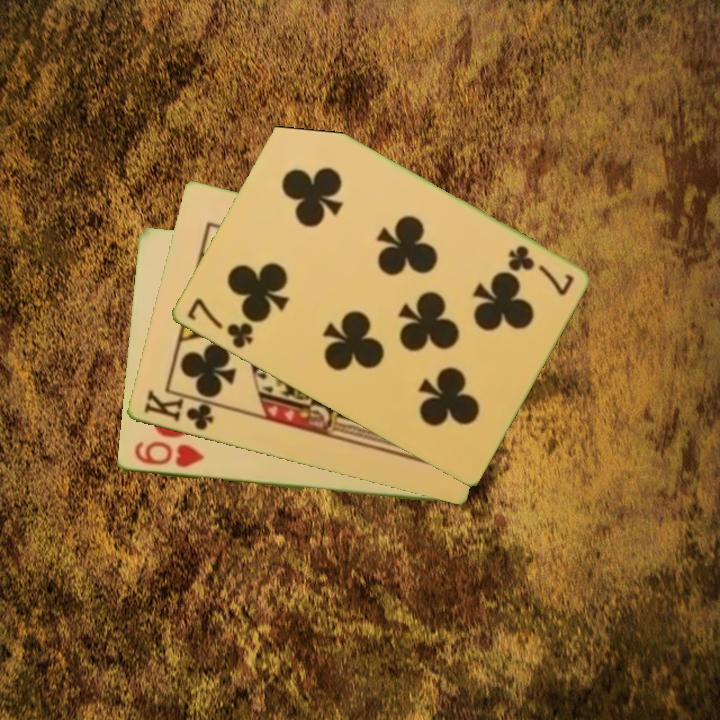6h: (130, 438, 207, 471)
7c: (183, 294, 256, 352), (503, 241, 576, 299)
Kc: (139, 387, 224, 434)
